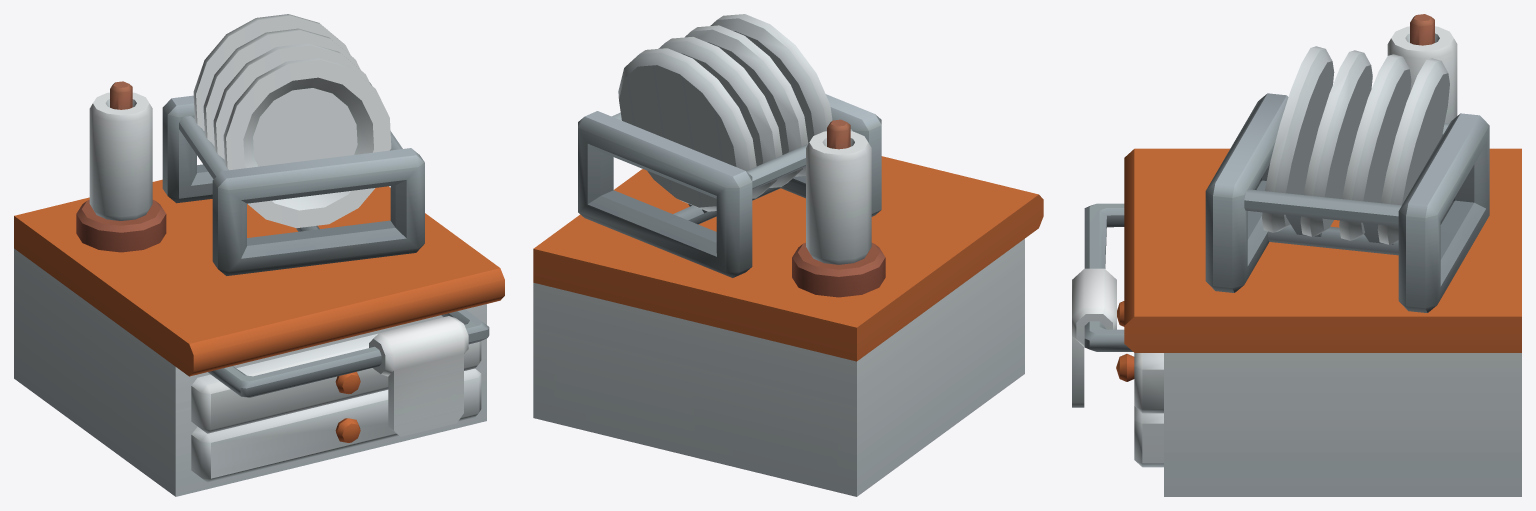
The model's file is cafe-counter.glb.
The picture shows the model from 3 angles, left to right: view 1: azimuth 30°, elevation 25°; view 2: azimuth 150°, elevation 25°; view 3: azimuth 270°, elevation 25°; orthographic projection. The views are drawn at different scales.
Parts seen in each view (by area): view 1: kitchencounter_straight_A_decorated; view 2: kitchencounter_straight_A_decorated; view 3: kitchencounter_straight_A_decorated.
Boxes of the visible parts, bbox=[...] form: kitchencounter_straight_A_decorated: bbox=[14, 14, 504, 496]; kitchencounter_straight_A_decorated: bbox=[533, 14, 1043, 496]; kitchencounter_straight_A_decorated: bbox=[1072, 14, 1521, 496].
Size of the model in its own units: 65728 by 68652 by 74166.
1 material, 1 textured.
